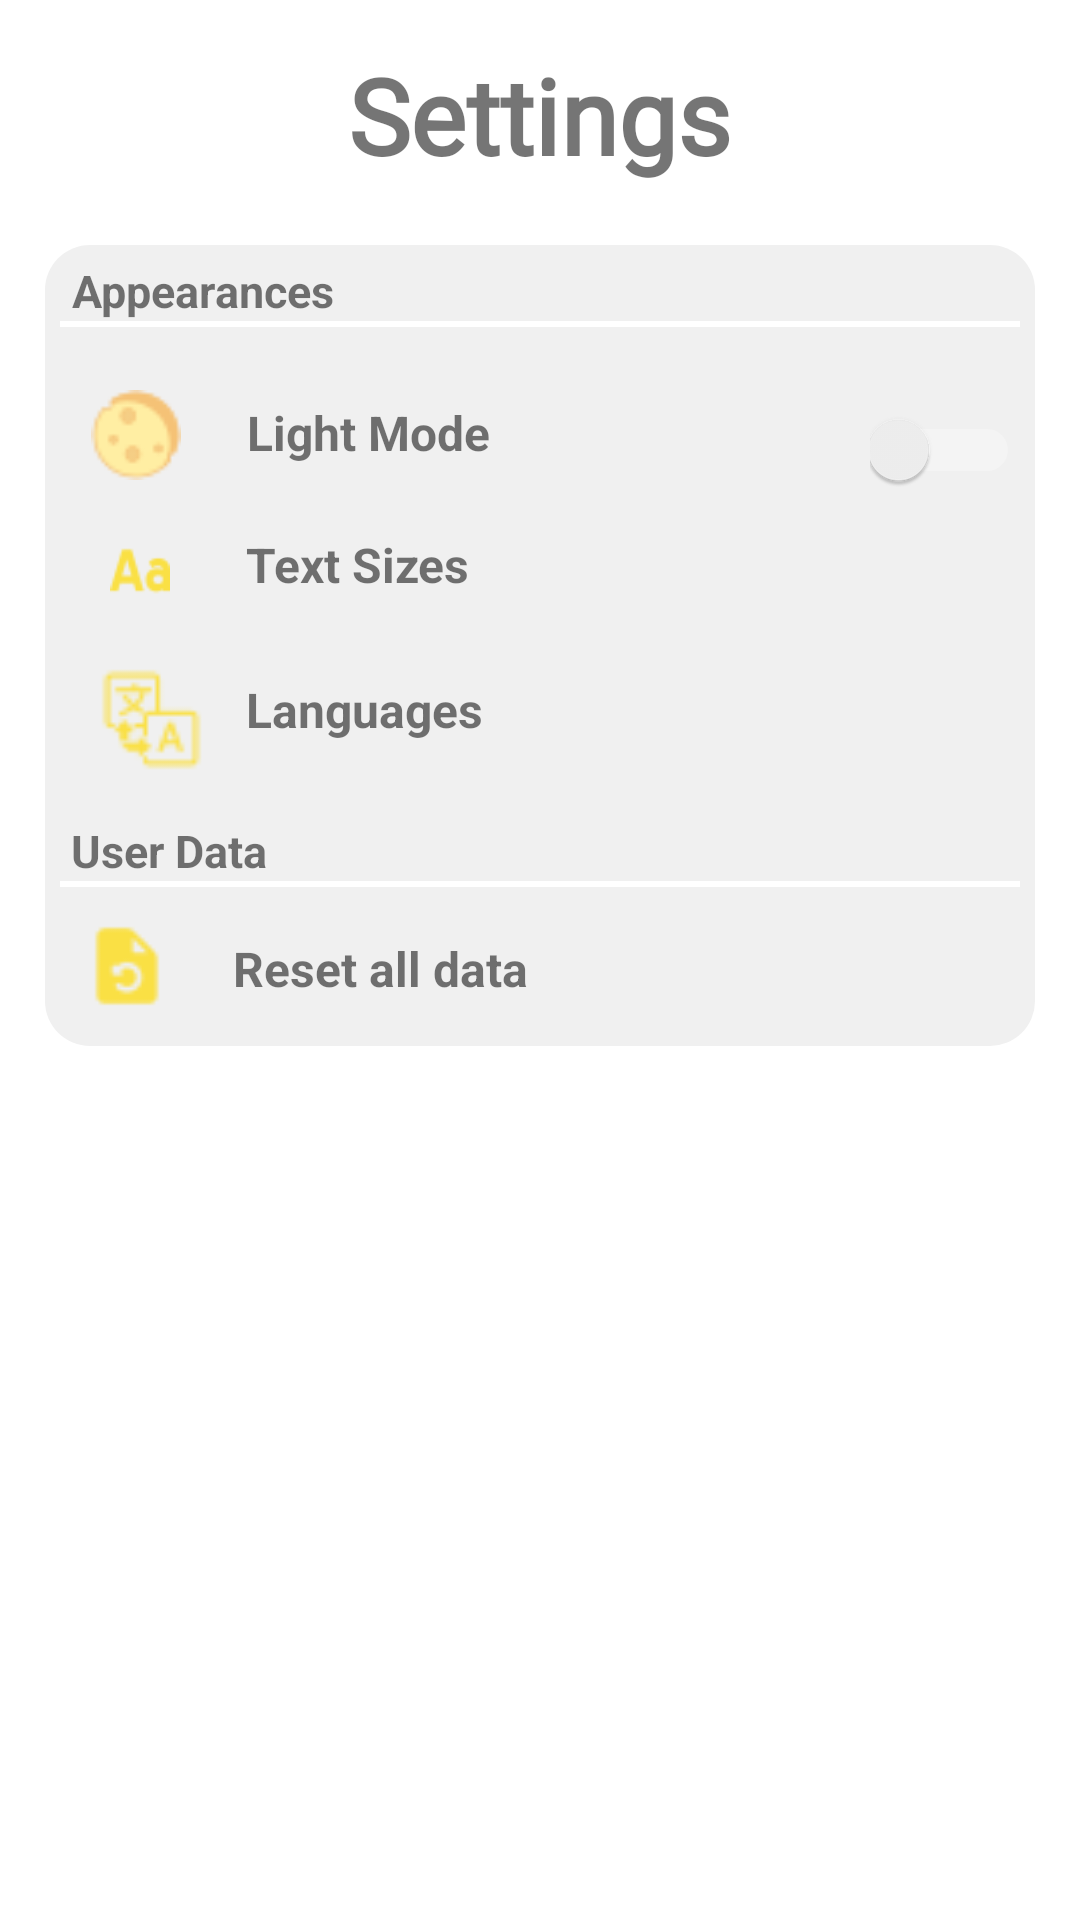

Icon bounding boxes for this 1080*1920 phone screenshot, format bbox=(x1, y1, x2, y2):
font size: bbox=(110, 548, 170, 593)
full moon: bbox=(91, 390, 181, 480)
restore page: bbox=(95, 927, 159, 1005)
